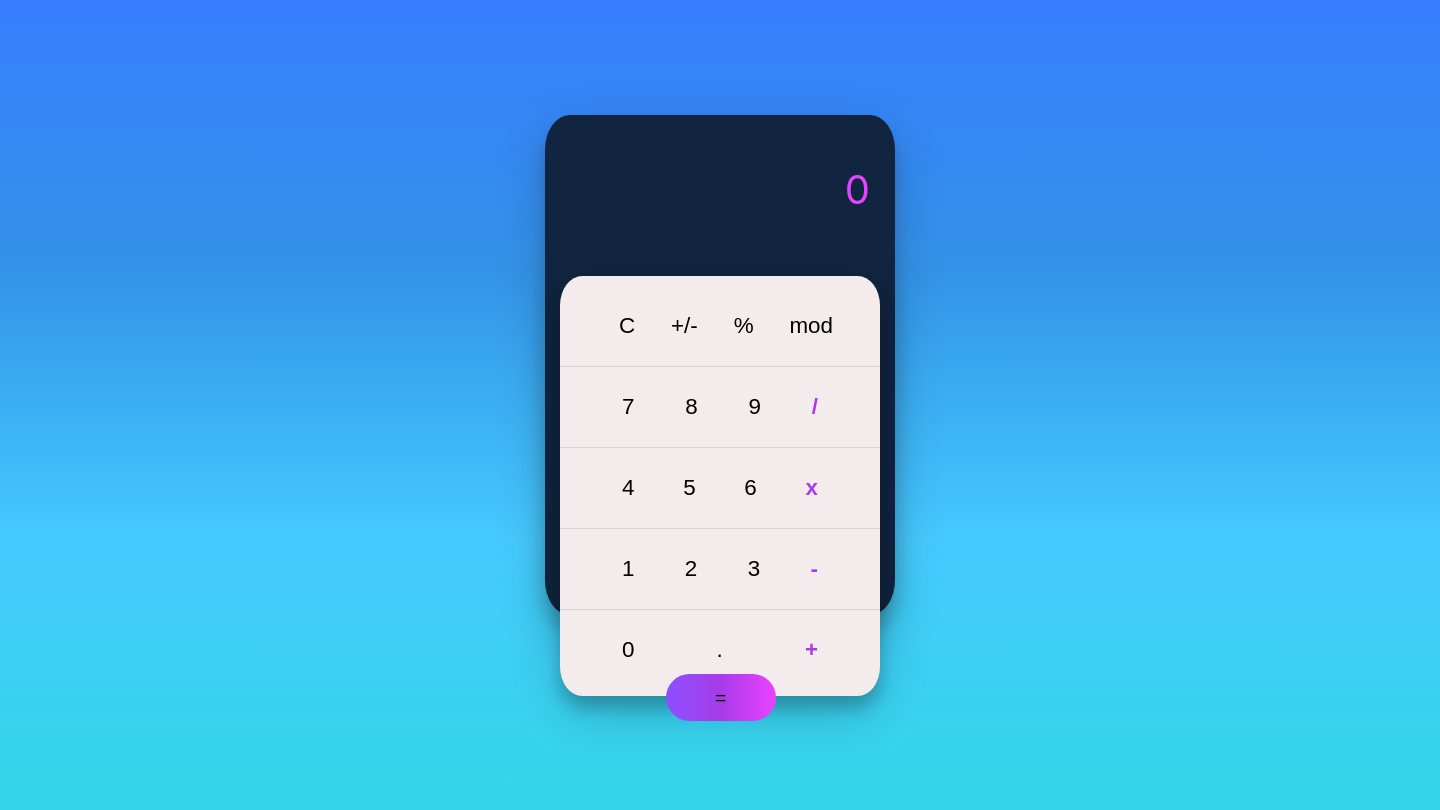
it: calculation of 2 numbers
Click the button "2" at point(691, 569), box [679,555,703,583]
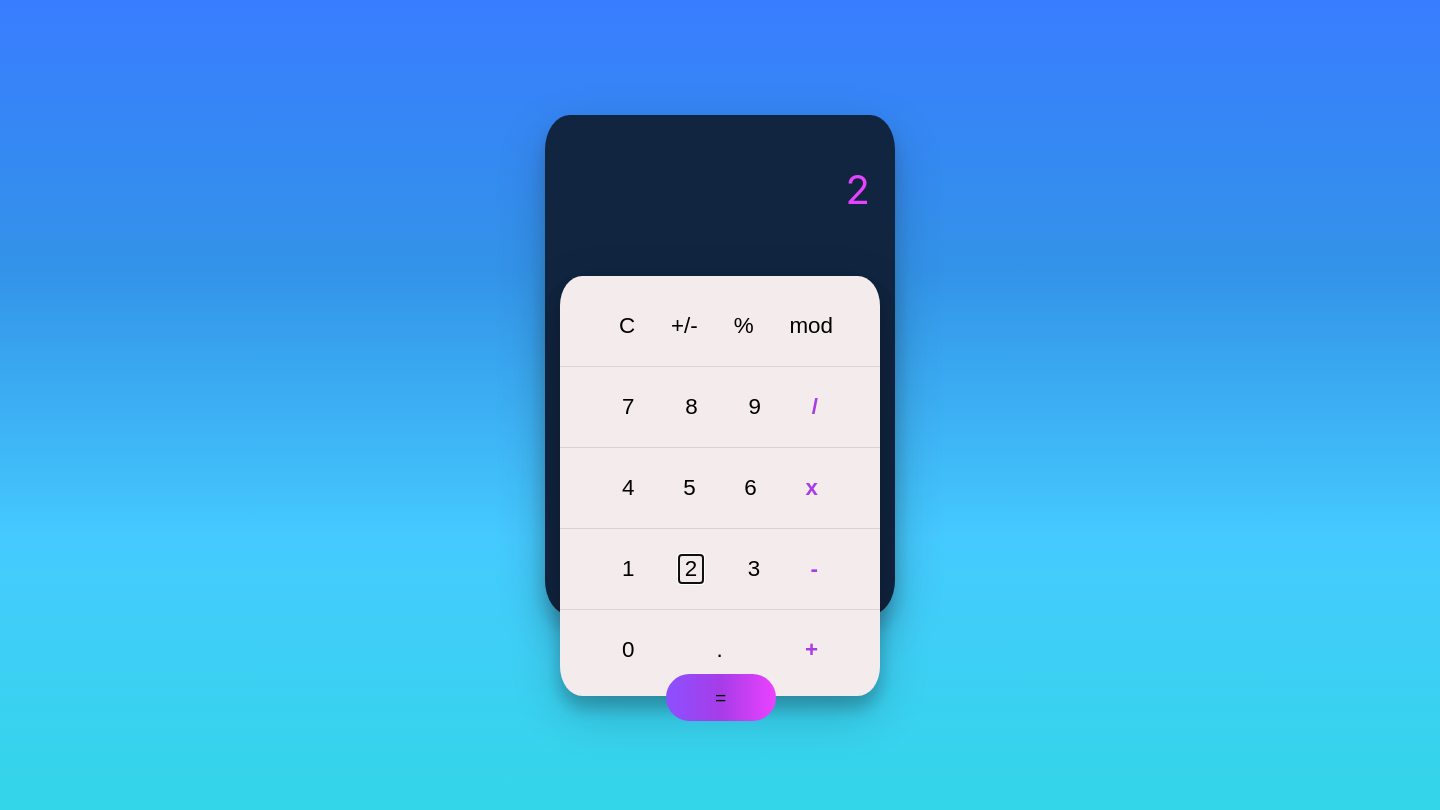
Click the button "-" at point(814, 569), box [804,555,824,583]
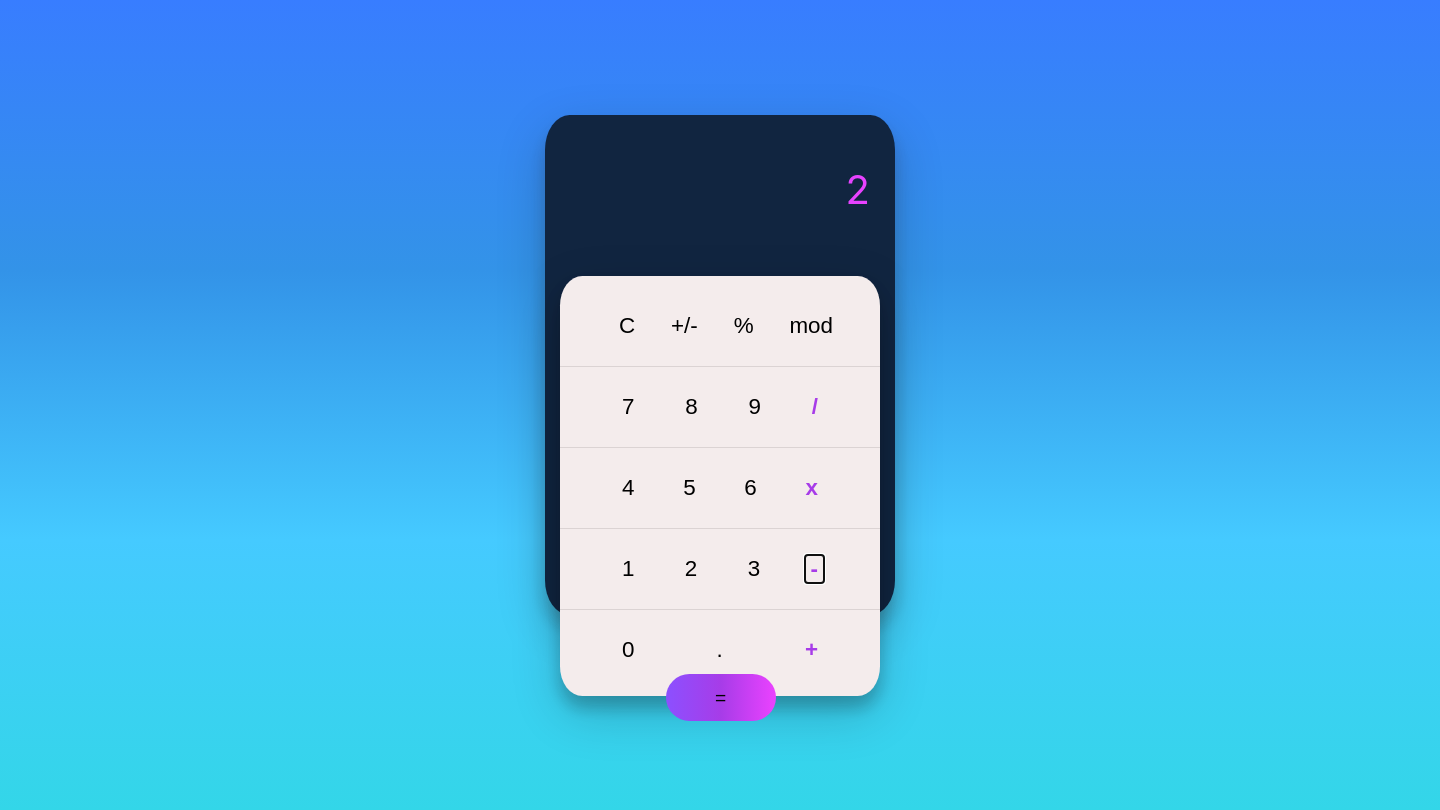
Click the button "3" at point(754, 569), box [742,555,766,583]
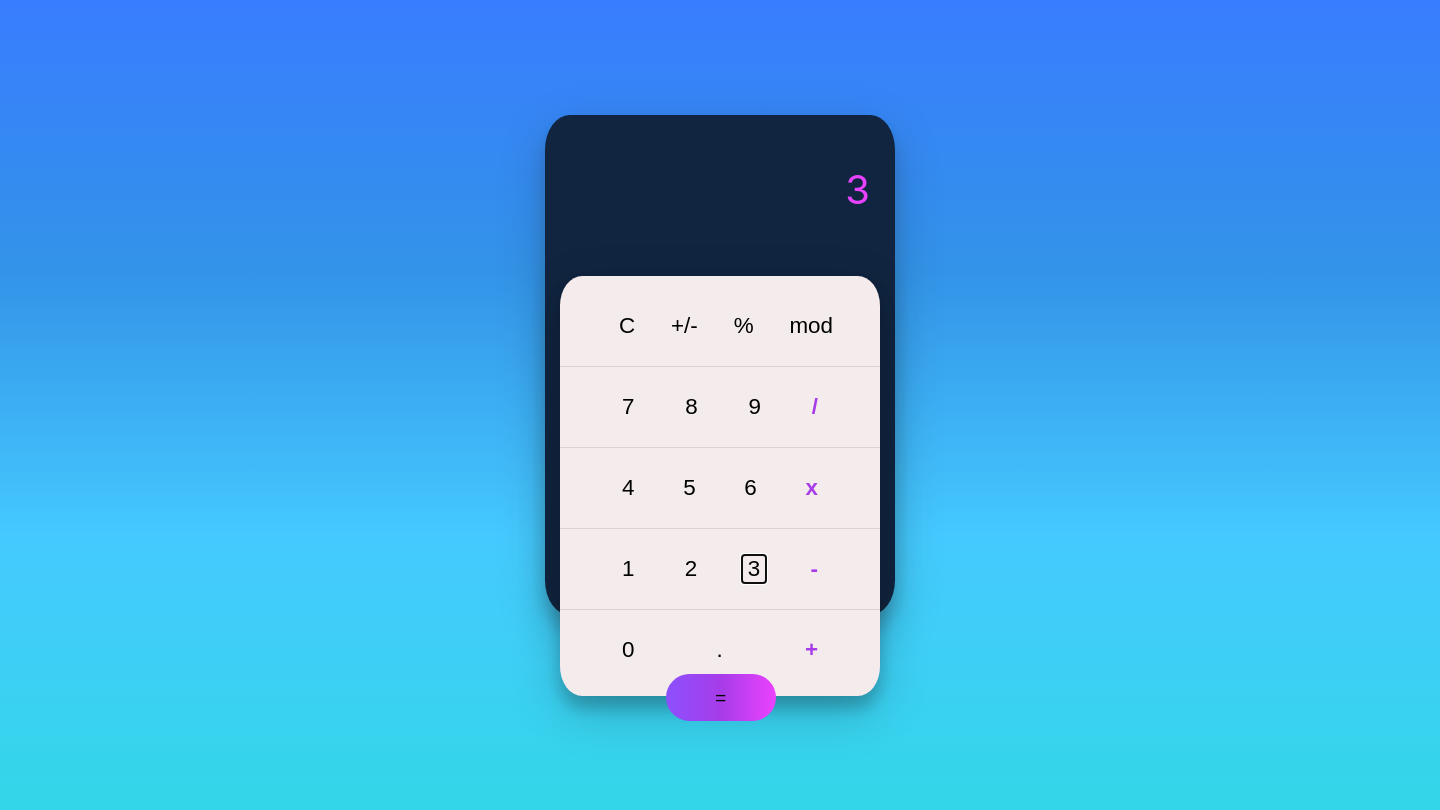
Click the button "=" at point(721, 698), box [666,674,776,721]
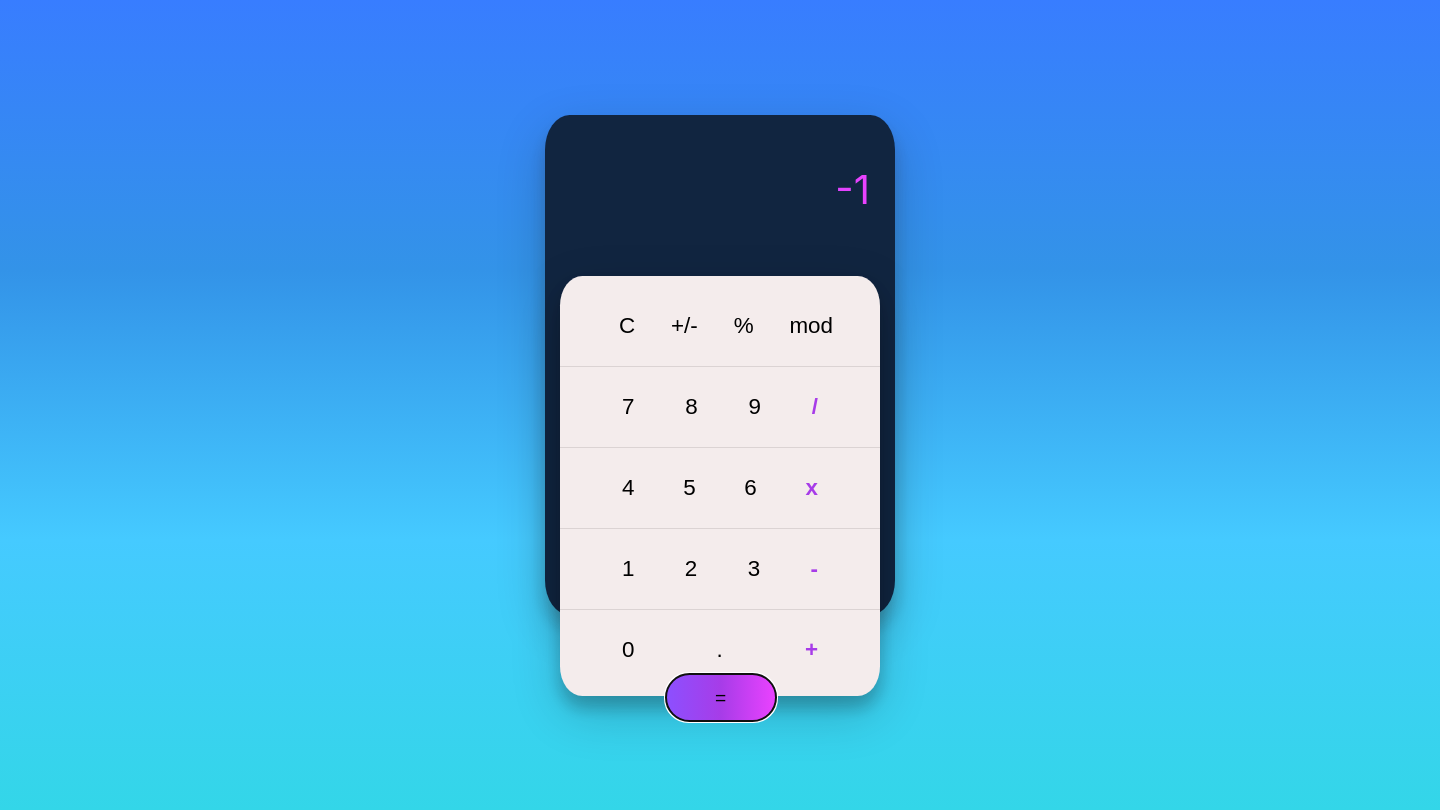
Expected: the label with test id "resultCalculation" reads "-1", [835,164,870,214]
